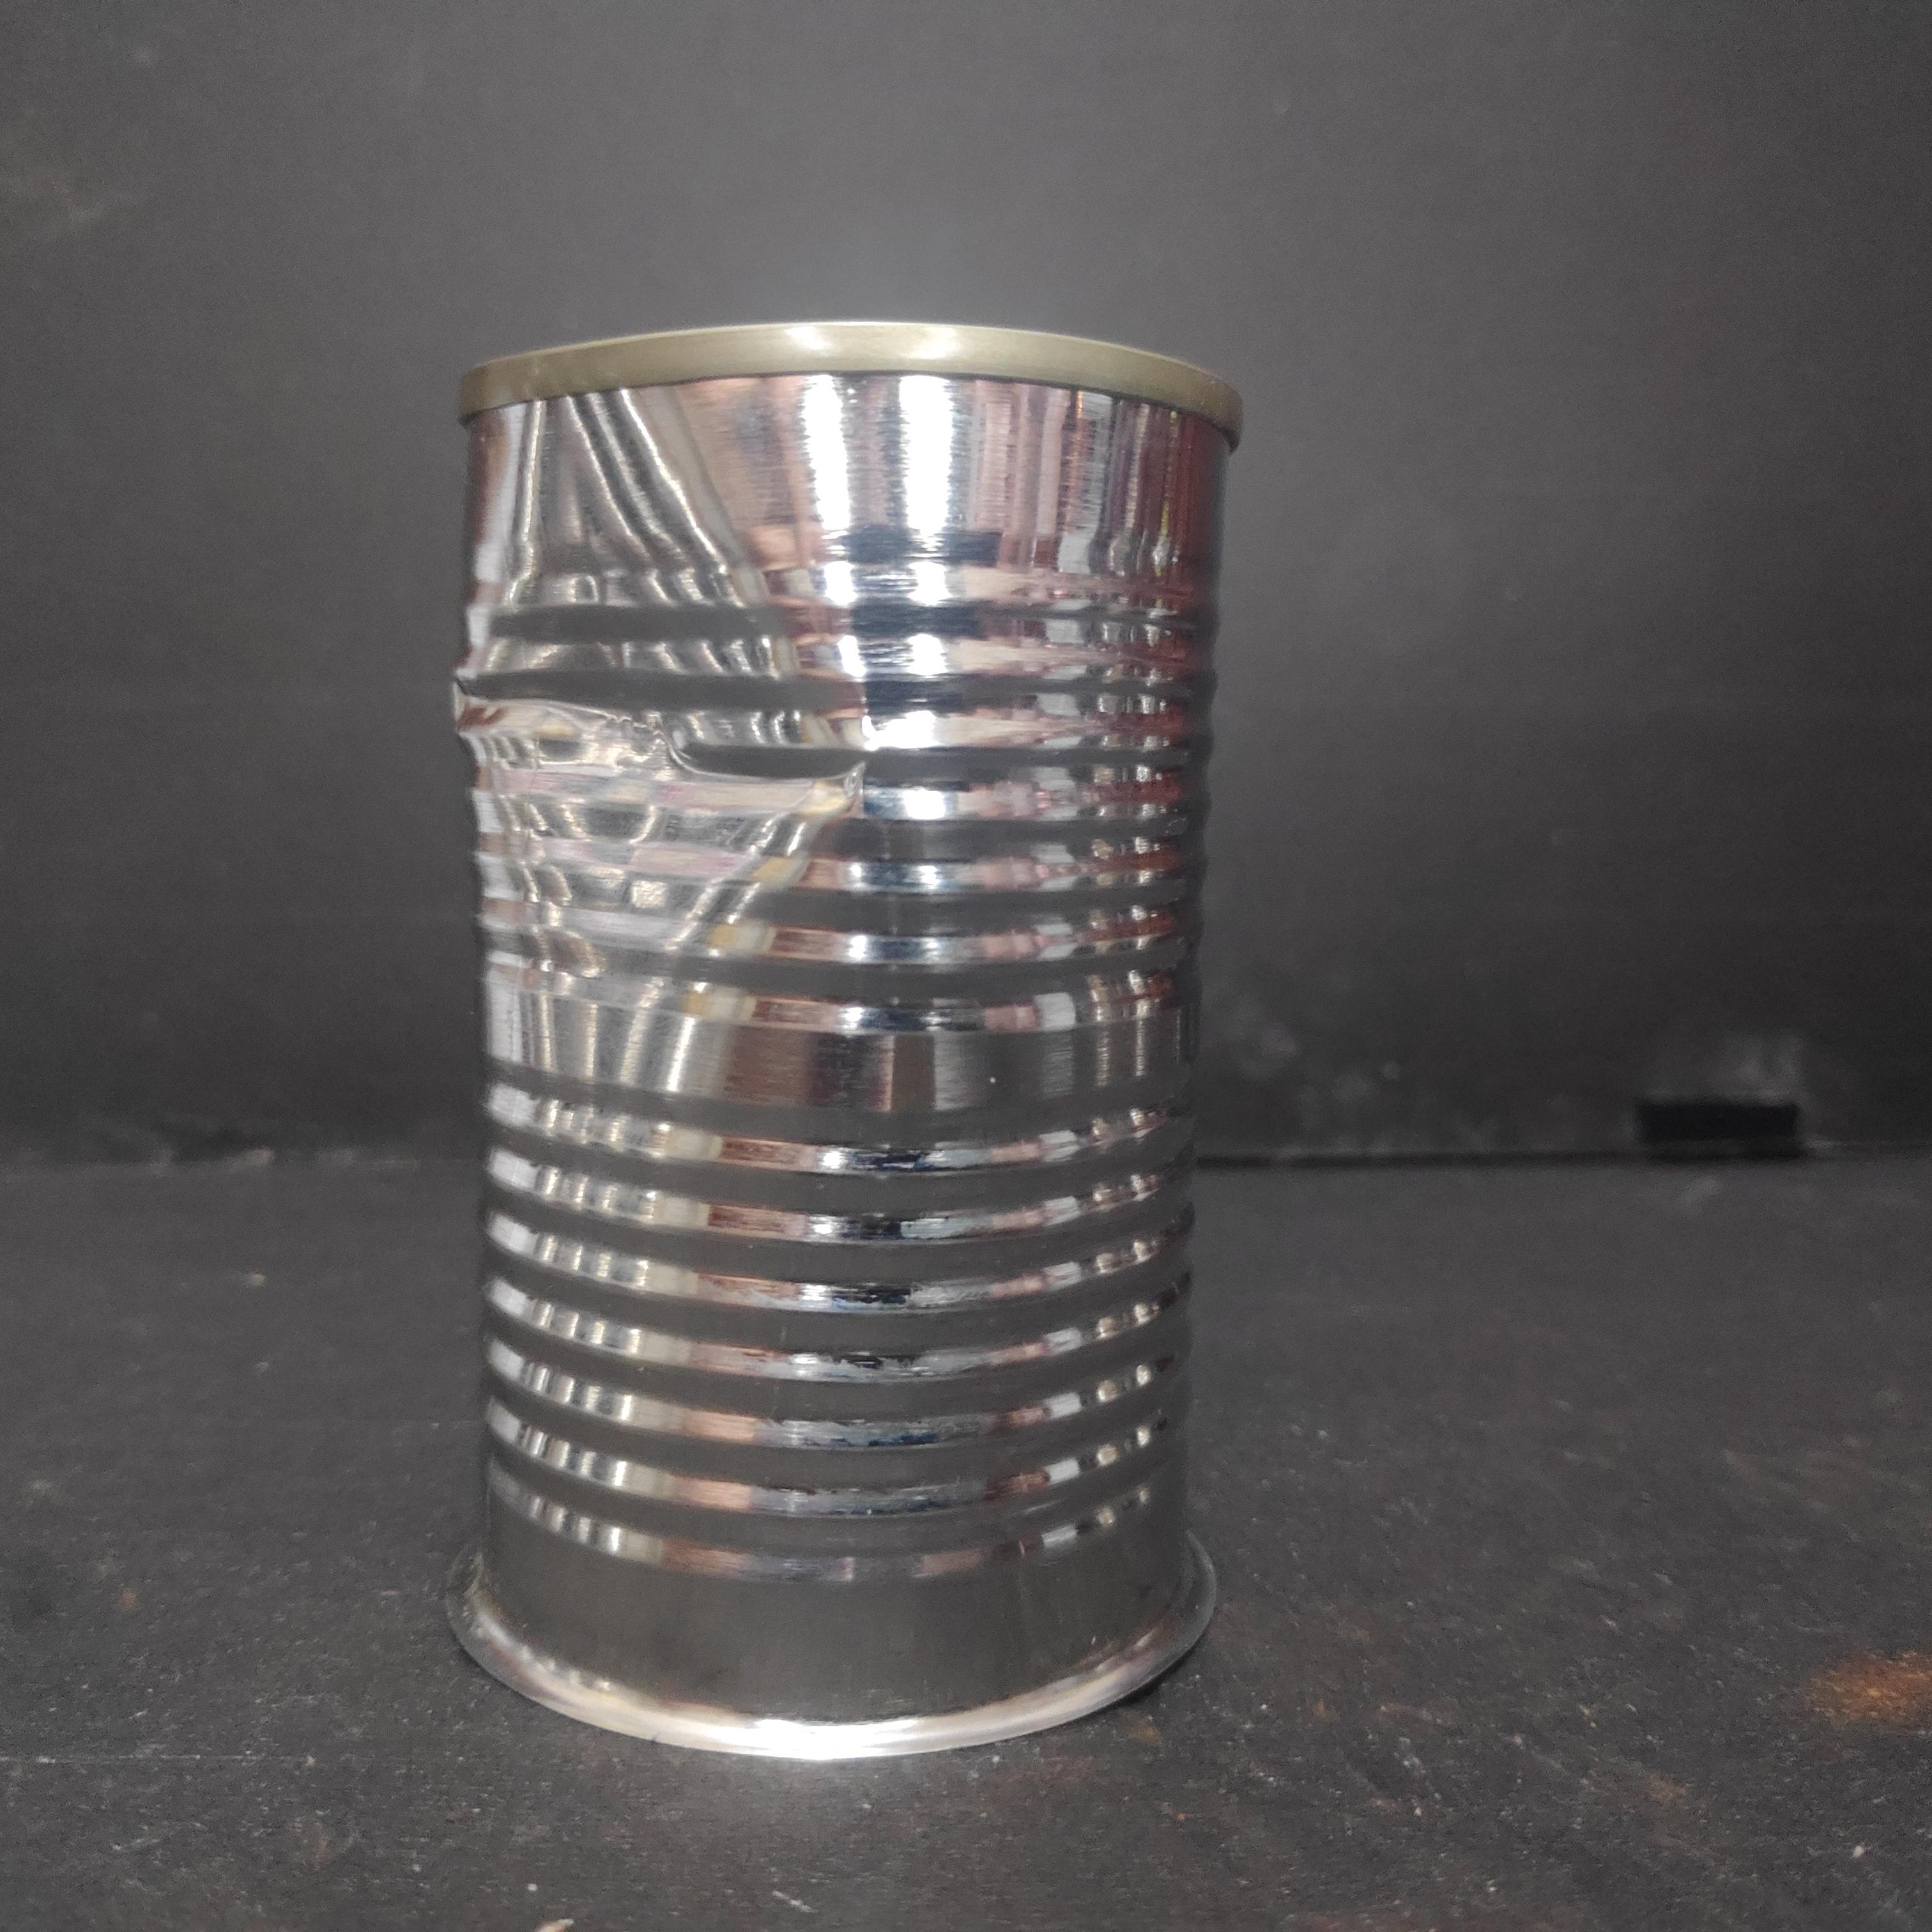Minor Defect: (442, 308, 1247, 1785)
